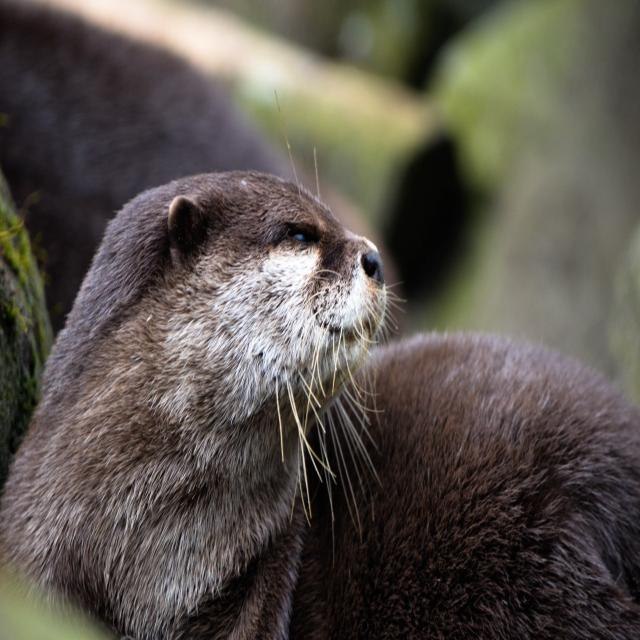otter: (8, 172, 389, 614)
